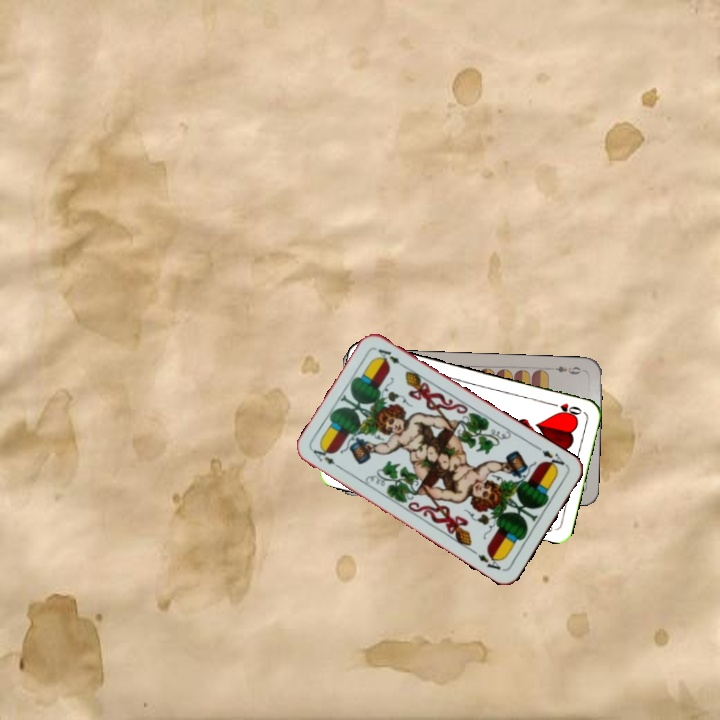E9: (551, 362, 587, 377)
EA: (533, 442, 569, 472), (308, 443, 345, 472)
HO: (546, 398, 584, 418)
